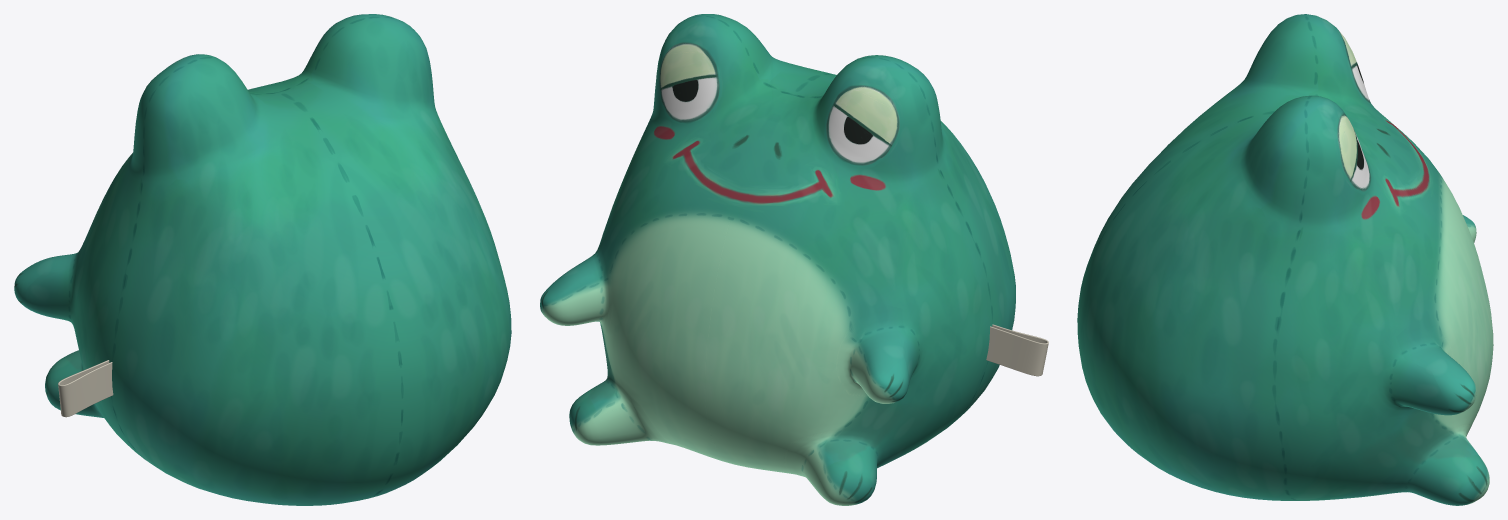
File: frog_472d646c.glb
3 views of the same model, side by side, from view 1: azimuth 30°, elevation 25°; view 2: azimuth 150°, elevation 25°; view 3: azimuth 270°, elevation 25° (orthographic). The views are drawn at different scales.
Visible parts, largest first — view 1: frog lopo_1, Plane_2; view 2: frog lopo_1, Plane_2; view 3: frog lopo_1.
Part boxes in pixels (x1,y1,x2,y2): frog lopo_1: (14,14,511,505); Plane_2: (58,360,113,417); frog lopo_1: (540,14,1015,505); Plane_2: (986,324,1048,376); frog lopo_1: (1077,14,1493,505).
Bounding box in the file's own units: 2.42 × 2.22 × 2.09.
Materials: 2 (1 with a texture image).
